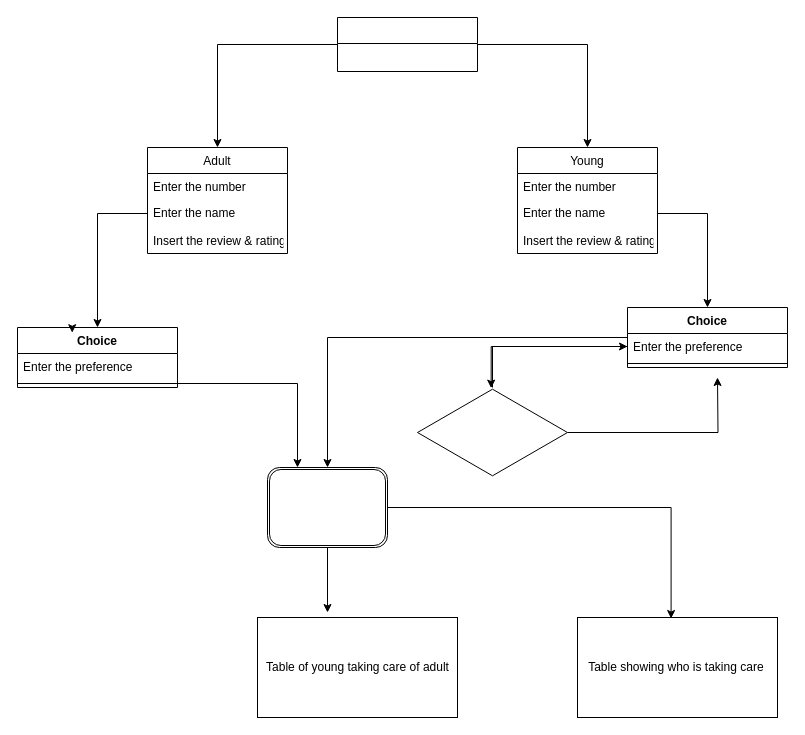
The diagram is 805 pixels wide and 735 high, and some of its shapes have lost their labels. The shapes that lost their labels are listed below. From the top down, each one's box as (x1, y1, x2, y2) in pixels, then its label:
(336, 16, 478, 72): CareAll
(416, 386, 568, 478): Limit 4
(266, 466, 388, 548): Request/Accept
